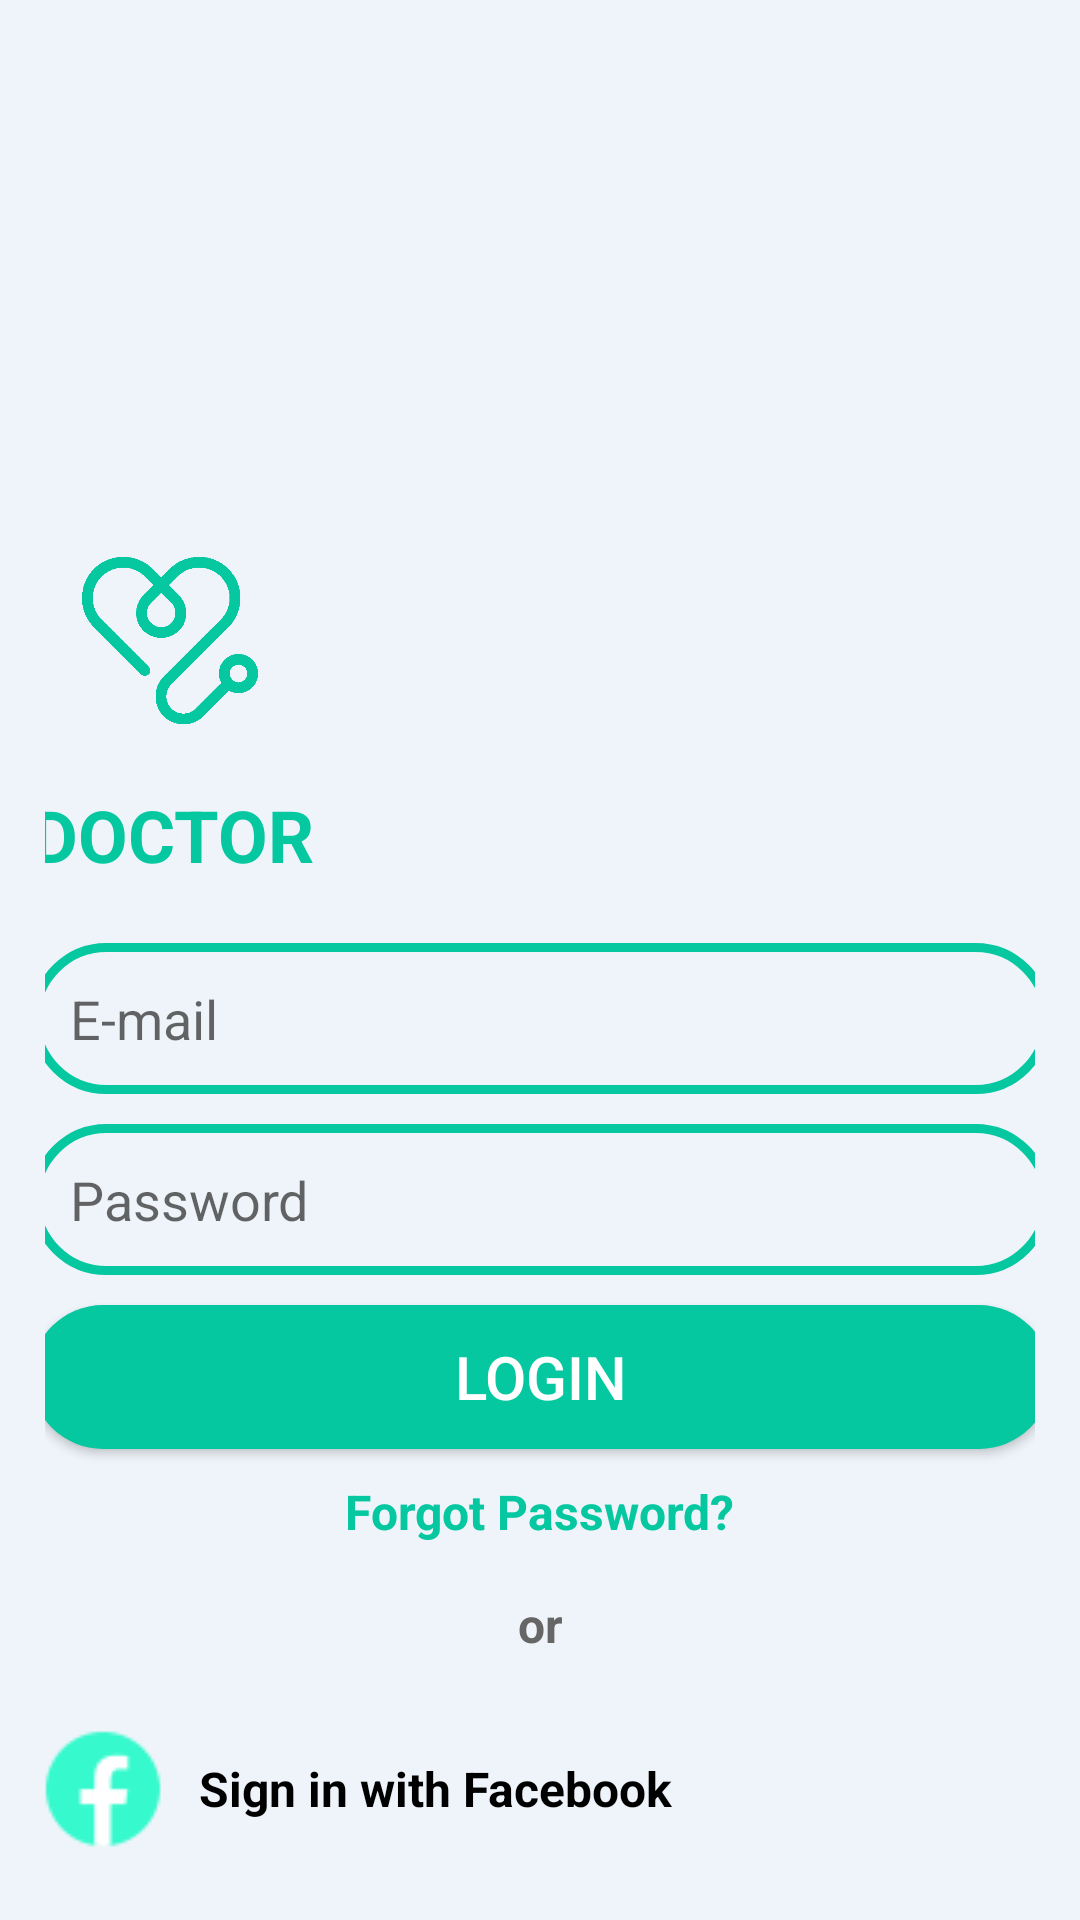

Icons on this 1080*1920 Android screen, each with the point to tap as (x=x, y=y):
setho Icon: (x=170, y=640)
